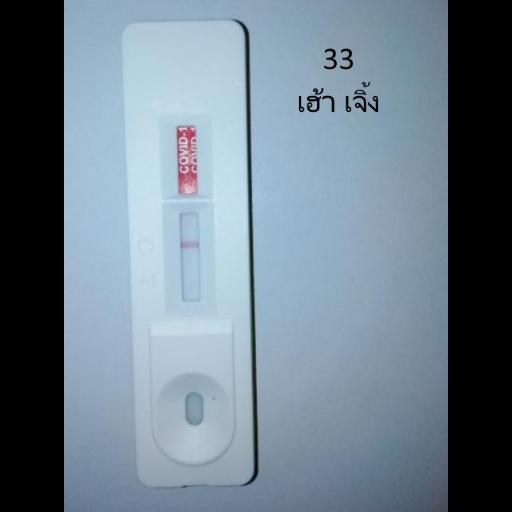Neg: (122, 24, 250, 488)
